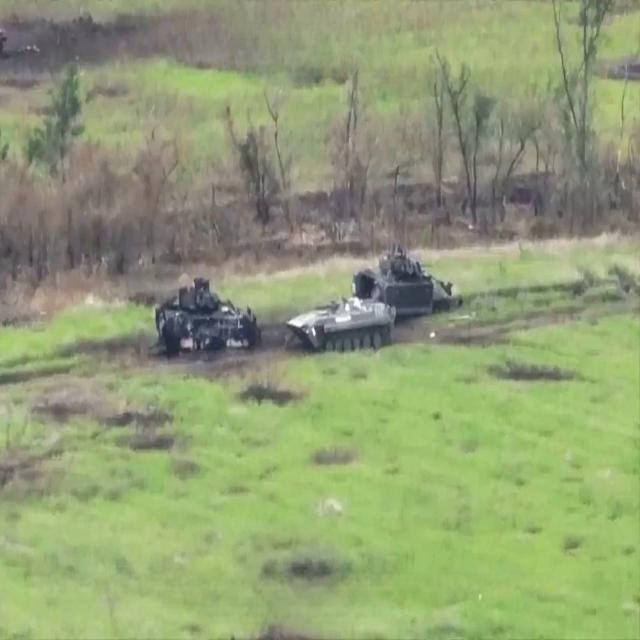AIFV: (154, 276, 266, 365), (353, 242, 464, 318), (286, 295, 399, 359)
